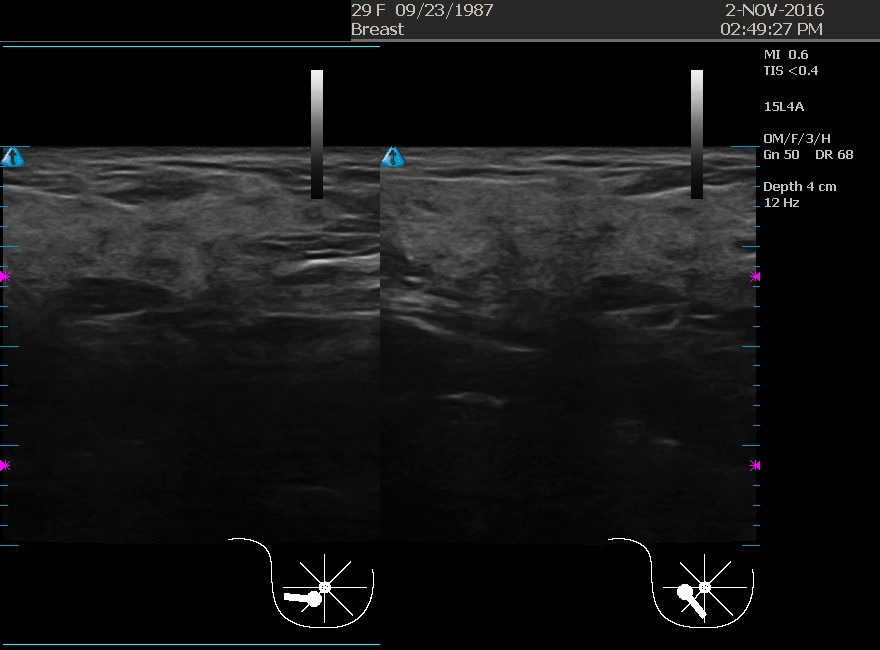BIRADS_3: (23, 201, 223, 401), (537, 257, 737, 457)
